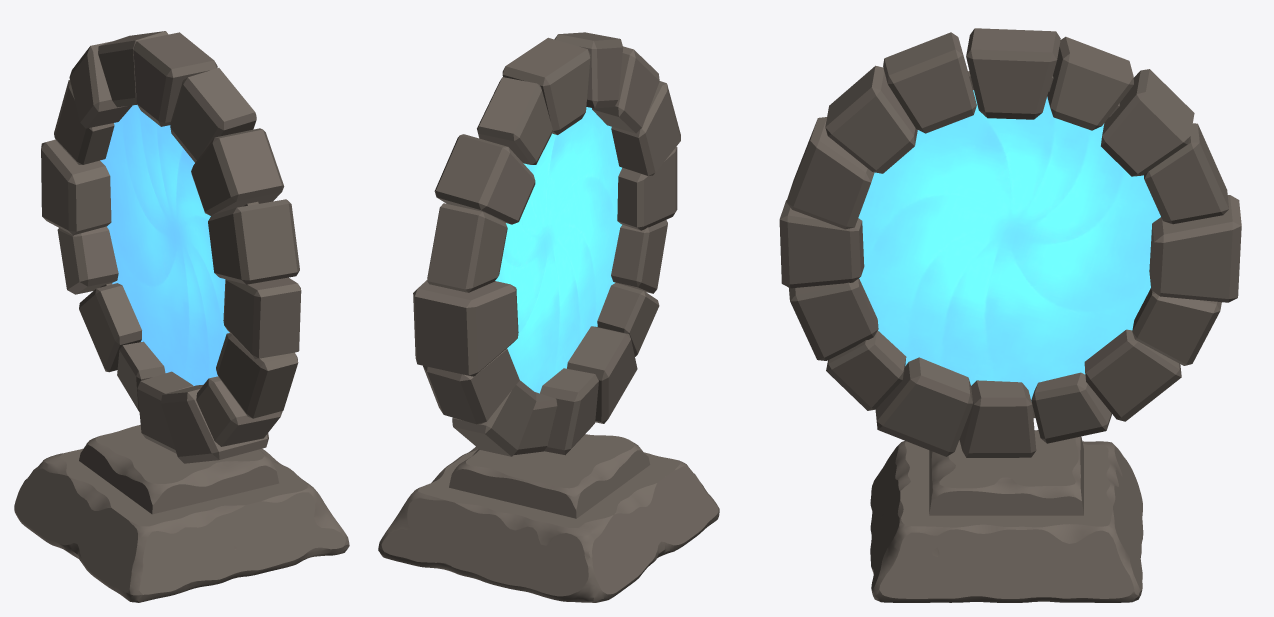
The model's file is PRP_DomainPortal_B.glb.
3 renders of one model, left to right at view 1: azimuth 30°, elevation 25°; view 2: azimuth 150°, elevation 25°; view 3: azimuth 270°, elevation 25°, orthographic. The views are drawn at different scales.
Visible parts, largest first — view 1: Cube.008_Material.002_0, Cube.008_Material.009_0; view 2: Cube.008_Material.002_0, Cube.008_Material.009_0; view 3: Cube.008_Material.002_0, Cube.008_Material.009_0.
Boxes of the visible parts, left/top/right/bottom form: Cube.008_Material.002_0: left=14, top=31, right=349, bottom=602; Cube.008_Material.009_0: left=100, top=105, right=229, bottom=385; Cube.008_Material.002_0: left=378, top=32, right=719, bottom=602; Cube.008_Material.009_0: left=495, top=107, right=621, bottom=393; Cube.008_Material.002_0: left=779, top=28, right=1241, bottom=602; Cube.008_Material.009_0: left=858, top=90, right=1160, bottom=399.
Bounding box in the file's own units: 6.29 × 13.54 × 11.79.
2 materials, 1 textured.
